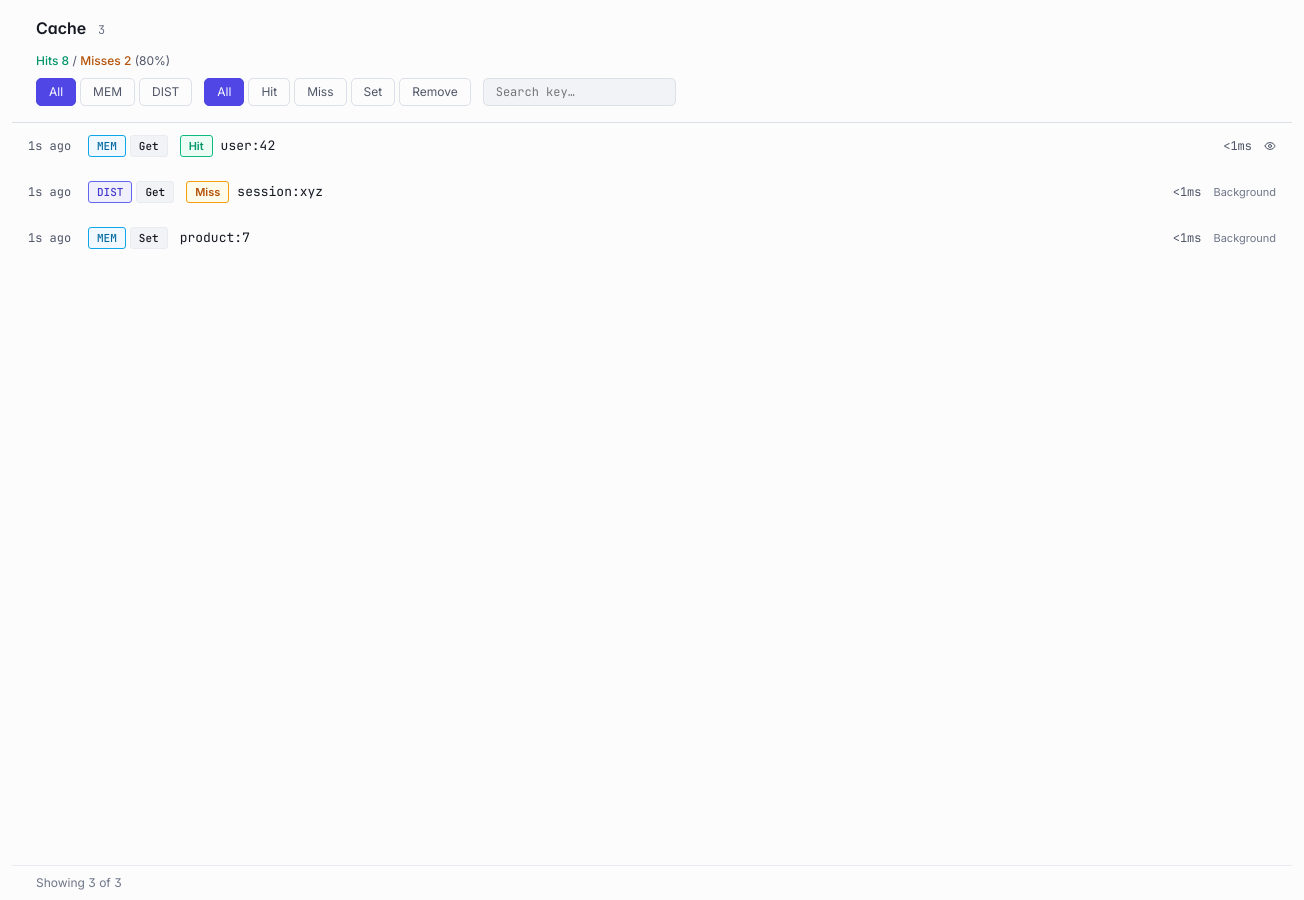
Test: CachePage › filters to MEM entries when MEM chip is clicked
This screenshot has width=1304, height=900.
Check: the text "user:42" is shown, box [221,136,275,156]
Click the button "MEM".
click(108, 92)  # box [80,78,135,106]
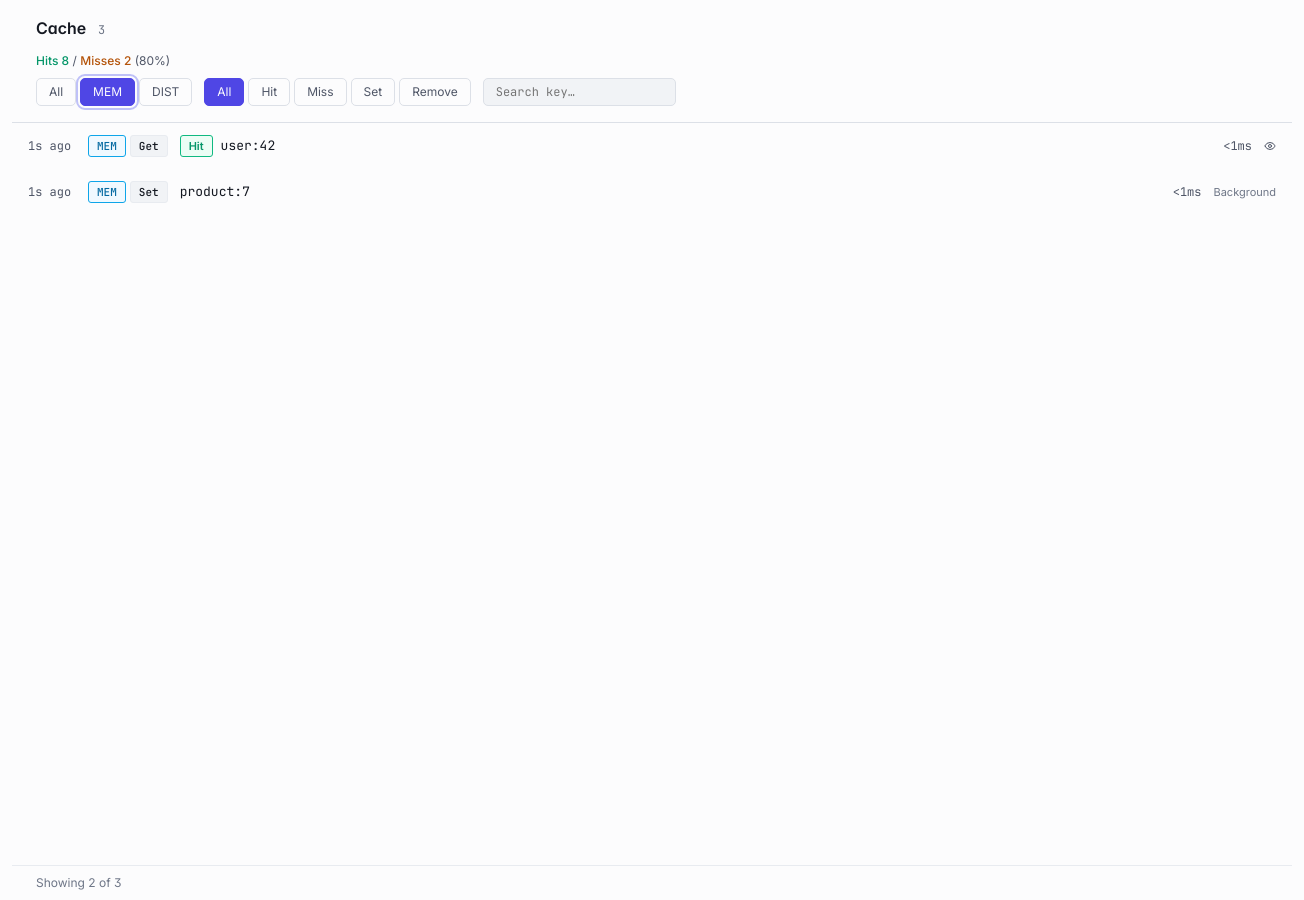
Check: the text "user:42" is shown, box [221,136,275,156]
Check: the button "session:xyz" is gone
